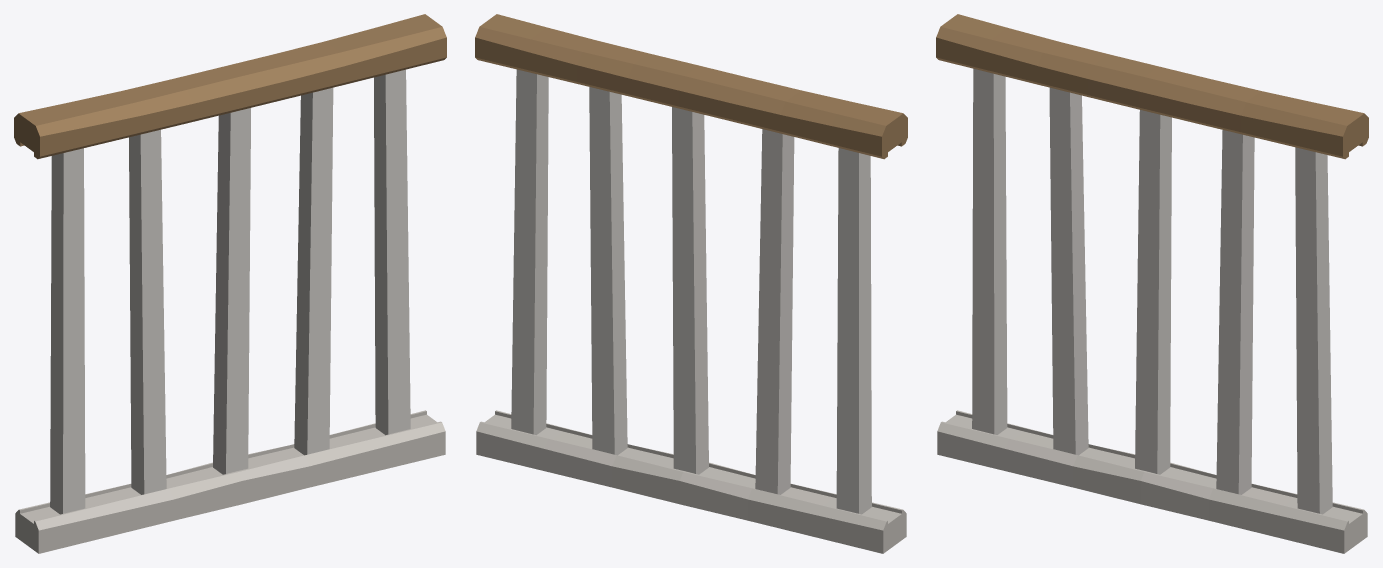
File: landing-balustrade-run-d4c498.glb
The picture shows the model from 3 angles, left to right: view 1: azimuth 30°, elevation 25°; view 2: azimuth 150°, elevation 25°; view 3: azimuth 330°, elevation 25°; orthographic projection.
Parts seen in each view (by area): view 1: landing-balustrade-run; view 2: landing-balustrade-run; view 3: landing-balustrade-run.
Boxes of the visible parts, box(x1,y1,x2,y2) form: landing-balustrade-run: box(14, 14, 446, 553); landing-balustrade-run: box(475, 14, 907, 553); landing-balustrade-run: box(936, 14, 1368, 553).
Bounding box in the file's own units: 1 × 1 × 0.1126.
